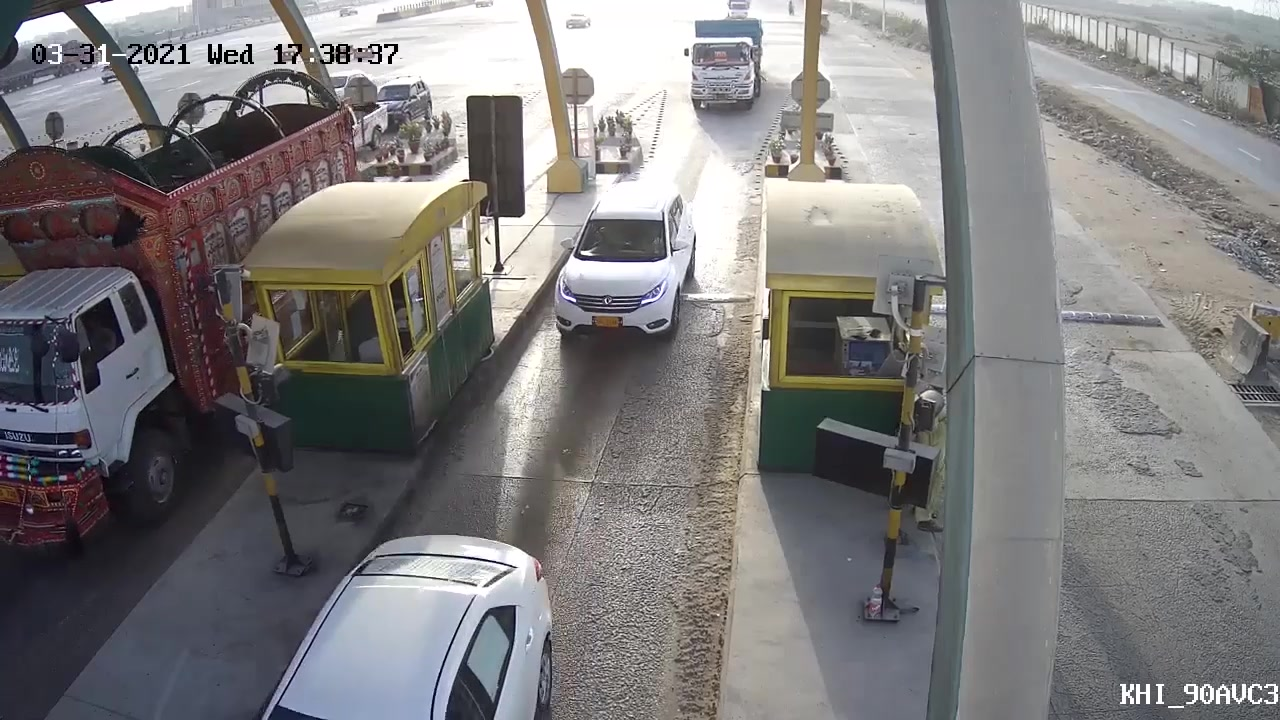F1: (547, 174, 711, 365)
